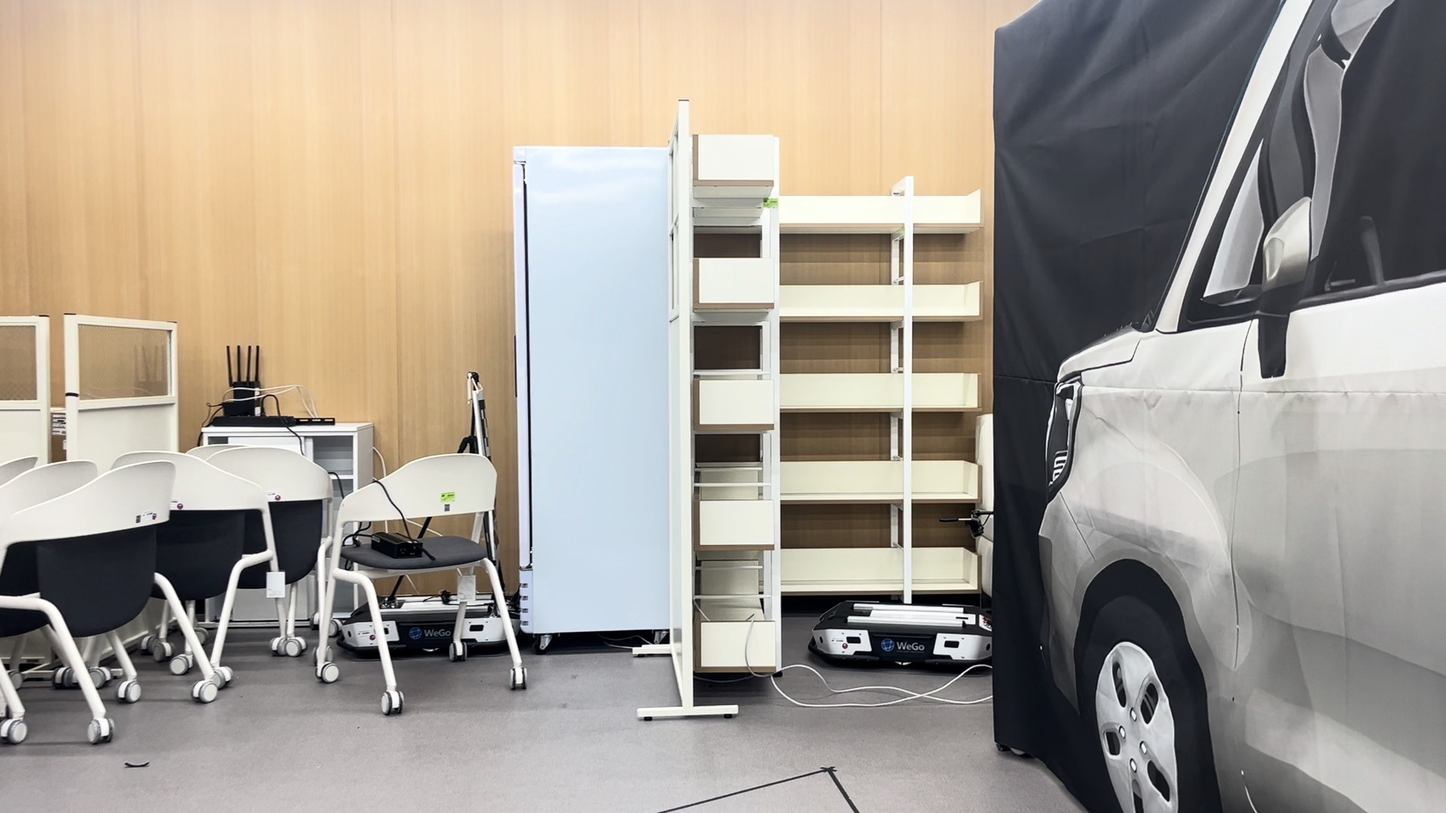side_mirror: (1258, 197, 1311, 378)
